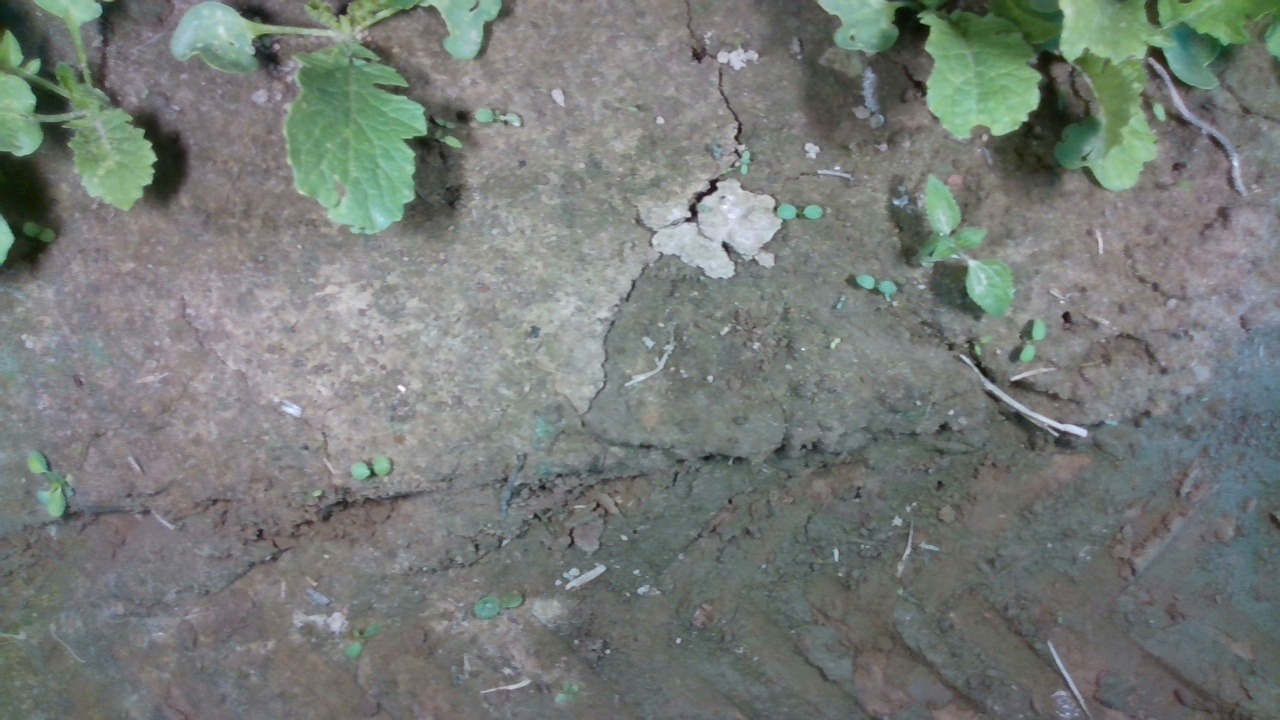weed: (921, 171, 1015, 319), (24, 449, 69, 521), (470, 588, 525, 618), (1019, 313, 1047, 365), (472, 104, 525, 128), (346, 455, 392, 482), (855, 271, 900, 294), (775, 203, 825, 221), (734, 149, 751, 177), (432, 116, 458, 130), (828, 335, 842, 351), (835, 294, 847, 312)
